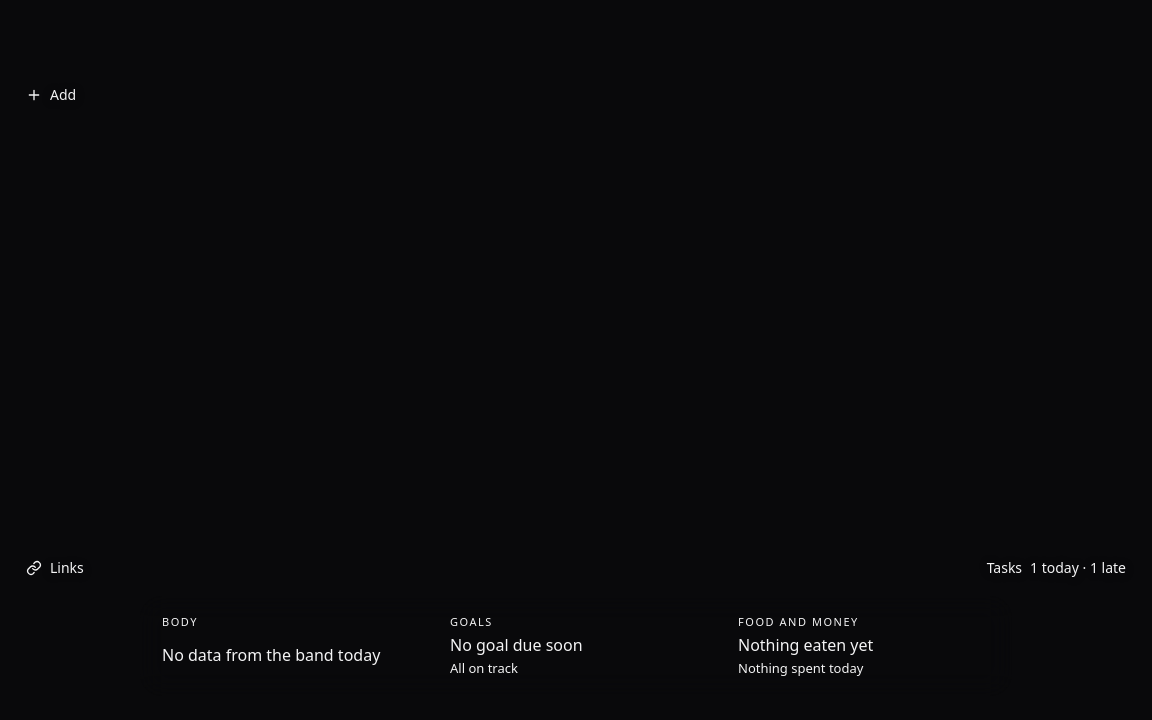
Scenario: the corners › links a path through the router, an URL in a new tab, and nothing else
Click the button "Links": (55, 568) [16,549,94,586]
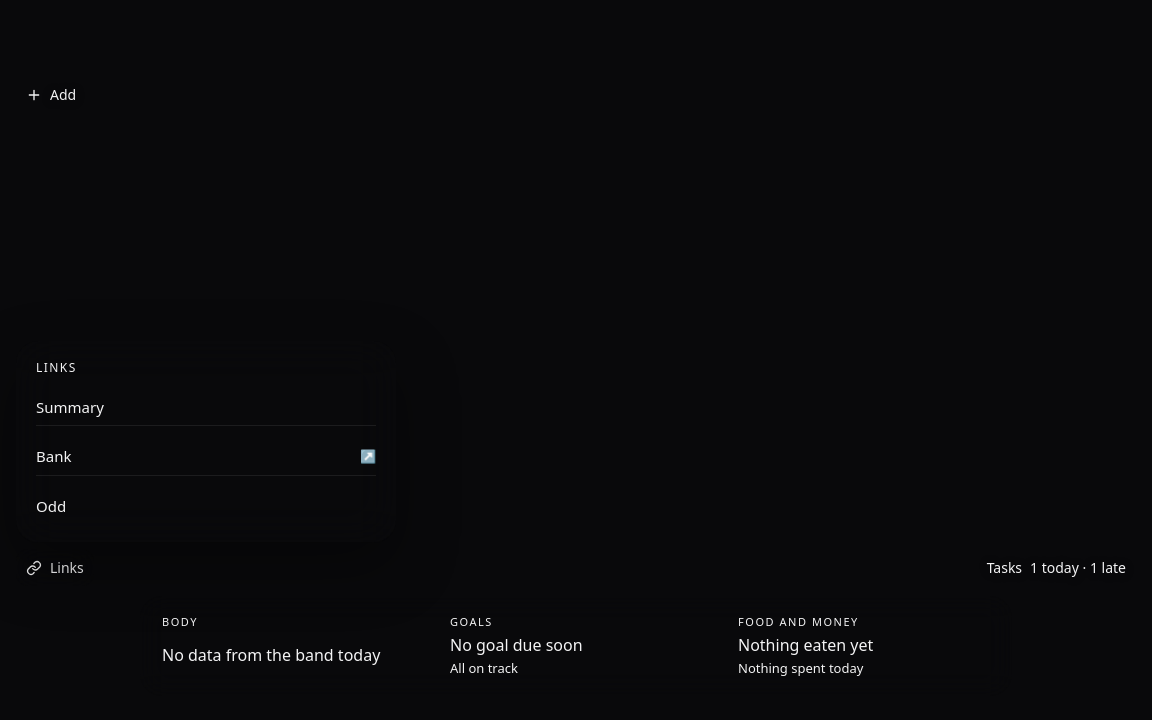
Expected: the text "Odd" is shown, [36,496,66,516]
